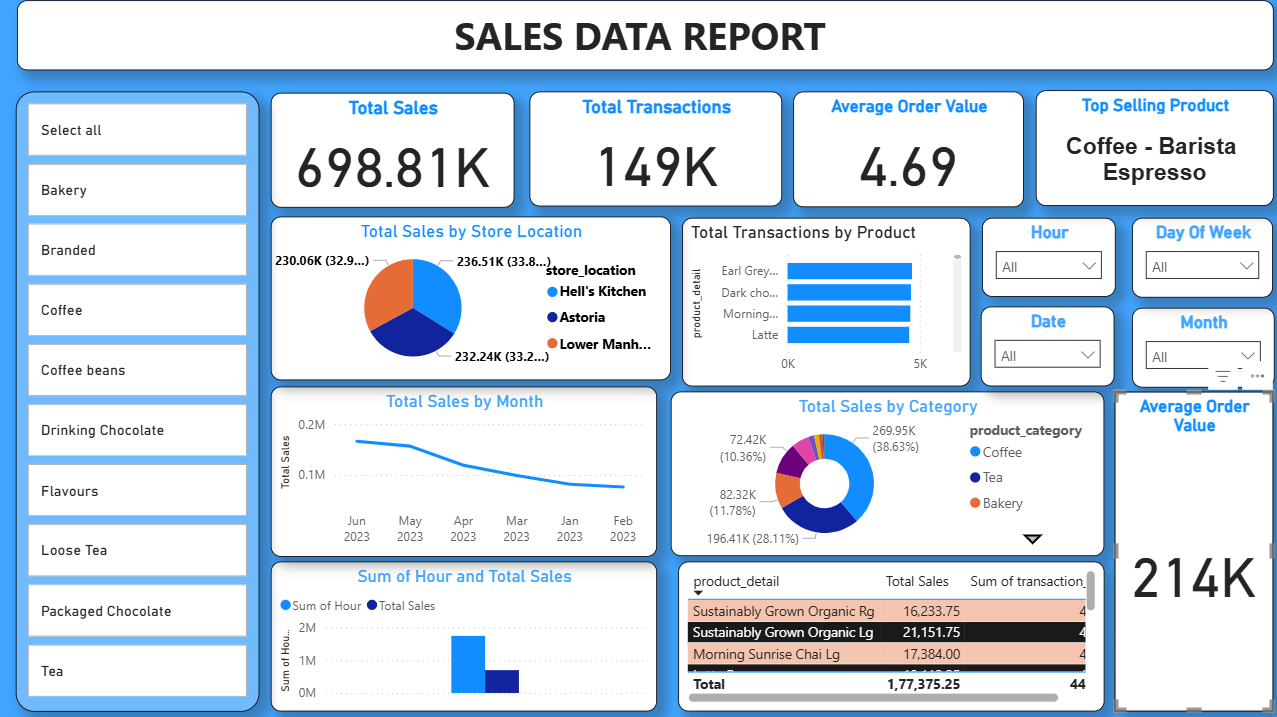

The dashboard page shown, as its layout file describes it:
{"tool":"powerbi","page":{"name":"Page 1","canvas":[1280,720],"ordinal":0},"visuals":[{"type":"card","title":"Total Sales","fields":{"Values":["Transactions.Total Sales"]},"box":[283.4,101.8,239.3,112.9],"z":0},{"type":"card","title":"Total Transactions","fields":{"Values":["Transactions.Total Transactions"]},"box":[537.9,100.2,248.4,112.5],"z":1000},{"type":"card","title":"Average Order Value","fields":{"Values":["Transactions.AOV"]},"box":[795.9,100.2,226.4,113.9],"z":2000},{"type":"clusteredColumnChart","fields":{"Y":["Sum(Transactions.Hour)","Transactions.Total Sales"]},"box":[284,573.6,358.1,146.8],"z":3000},{"type":"lineChart","fields":{"Category":["Transactions.Month"],"Y":["Transactions.Total Sales"]},"box":[283.4,390.2,379.1,173],"z":4000},{"type":"barChart","title":"Total Transactions by Product","fields":{"Category":["Transactions.product_detail"],"Y":["Sum(Transactions.transaction_qty)"]},"box":[686.5,225,283.5,165.3],"z":5000},{"type":"donutChart","title":"Total Sales by Category","fields":{"Category":["Transactions.product_category"],"Y":["Transactions.Total Sales"]},"box":[676.5,395.2,425.4,161.9],"z":6000},{"type":"tableEx","fields":{"Values":["Transactions.product_detail","Transactions.Total Sales","Sum(Transactions.transaction_qty)"]},"box":[755.2,572.1,451.3,147.5],"z":7000},{"type":"textbox","box":[33.8,11.2,1233.8,68.8],"z":8000},{"type":"pieChart","title":"Total Sales by Store Location","fields":{"Y":["Transactions.Total Sales"],"Category":["Transactions.store_location"]},"box":[284,223.7,392.5,160.5],"z":9000},{"type":"advancedSlicerVisual","fields":{"Values":["Transactions.product_category"]},"box":[32.9,100.2,240.1,620.2],"z":10000},{"type":"slicer","title":"Month","fields":{"Values":["Transactions.transaction_date.Variation.Date Hierarchy.Month"]},"box":[1128.8,312.5,140,78.8],"z":11000},{"type":"slicer","title":"Hour","fields":{"Values":["Transactions.Hour"]},"box":[981.6,224.5,131.3,77.3],"z":12000},{"type":"slicer","title":"Day Of Week","fields":{"Values":["Transactions.Day of Week"]},"box":[1128.8,225,138.8,78.8],"z":13000},{"type":"slicer","title":"Date","fields":{"Values":["Transactions.transaction_date.Variation.Date Hierarchy.Day"]},"box":[980.4,311.7,131.3,78.5],"z":14000},{"type":"card","title":"Top Selling Product","fields":{"Values":["Transactions.Top Selling Product (by Revenue)"]},"box":[1033.8,100,233.8,113.8],"z":15000},{"type":"card","fields":{"Values":["Transactions.Total Quantity"]},"box":[1111.2,399.2,167.8,156.4],"z":15002}]}

Visuals, with their boxes in screenshot pixels (x1, y1, x2, y2), scaled from the page's 1280x720 canvas onto the 1277x717 screenshot:
"Total Sales" card: l=283, t=101, r=521, b=214
"Total Transactions" card: l=537, t=100, r=784, b=212
"Average Order Value" card: l=794, t=100, r=1020, b=213
clusteredColumnChart - Sum(Transactions.Hour) x Transactions.Total Sales: l=283, t=571, r=641, b=716
lineChart - Transactions.Month x Transactions.Total Sales: l=283, t=389, r=661, b=561
"Total Transactions by Product" barChart: l=685, t=224, r=968, b=389
"Total Sales by Category" donutChart: l=675, t=394, r=1099, b=555
tableEx - Transactions.product_detail x Transactions.Total Sales: l=753, t=570, r=1204, b=716
textbox: l=34, t=11, r=1265, b=80
"Total Sales by Store Location" pieChart: l=283, t=223, r=675, b=383
advancedSlicerVisual - Transactions.product_category: l=33, t=100, r=272, b=716
"Month" slicer: l=1126, t=311, r=1266, b=390
"Hour" slicer: l=979, t=224, r=1110, b=301
"Day Of Week" slicer: l=1126, t=224, r=1265, b=303
"Date" slicer: l=978, t=310, r=1109, b=389
"Top Selling Product" card: l=1031, t=100, r=1265, b=213
card - Transactions.Total Quantity: l=1109, t=398, r=1276, b=553
